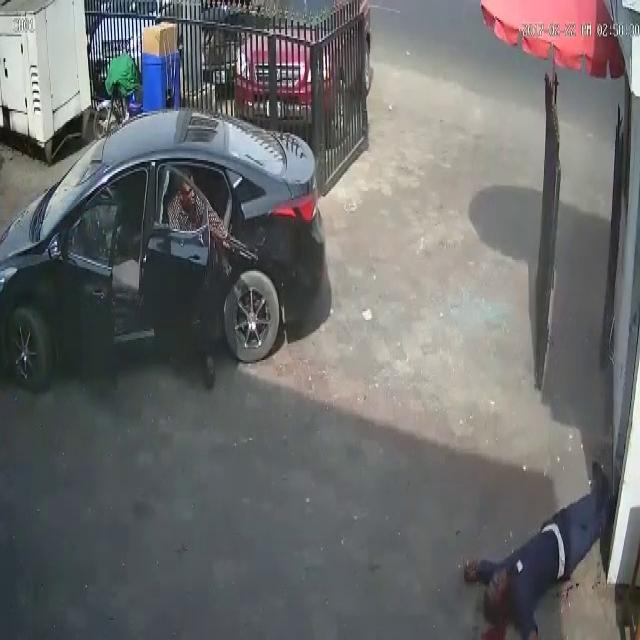weapon: (197, 214, 260, 262)
